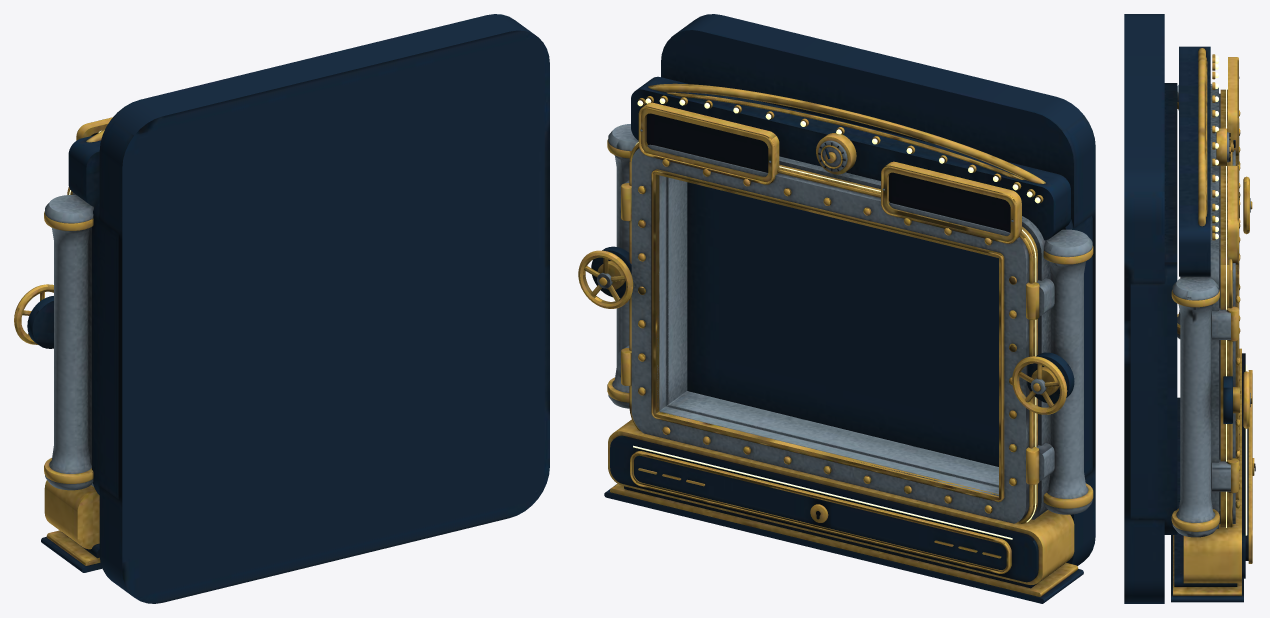
3 renders of one model, left to right at view 1: azimuth 30°, elevation 25°; view 2: azimuth 150°, elevation 25°; view 3: azimuth 270°, elevation 25°, orthographic. The views are drawn at different scales.
Visible parts, largest first — view 1: Deep_navy_enamel, Satin_vault_steel, Polished_champagne_gold; view 2: Deep_navy_enamel, Satin_vault_steel, Polished_champagne_gold, Uniform_dark_panel, Warm_marquee_and_trim_glow; view 3: Deep_navy_enamel, Polished_champagne_gold, Satin_vault_steel, Warm_marquee_and_trim_glow.
Part boxes in pixels (x1=…): Deep_navy_enamel: x1=27, y1=14, x2=549, y2=603; Satin_vault_steel: x1=45, y1=192, x2=93, y2=490; Polished_champagne_gold: x1=14, y1=117, x2=112, y2=565; Deep_navy_enamel: x1=591, y1=14, x2=1095, y2=603; Satin_vault_steel: x1=597, y1=124, x2=1092, y2=523; Polished_champagne_gold: x1=578, y1=83, x2=1093, y2=596; Uniform_dark_panel: x1=646, y1=113, x2=1010, y2=519; Warm_marquee_and_trim_glow: x1=633, y1=98, x2=1040, y2=539; Deep_navy_enamel: x1=1124, y1=14, x2=1248, y2=603; Polished_champagne_gold: x1=1171, y1=48, x2=1254, y2=595; Satin_vault_steel: x1=1172, y1=77, x2=1250, y2=537; Warm_marquee_and_trim_glow: x1=1215, y1=55, x2=1247, y2=535.
Size of the model in its own units: 9.79 by 9 by 2.48.
Materials: 5 (4 with a texture image).
